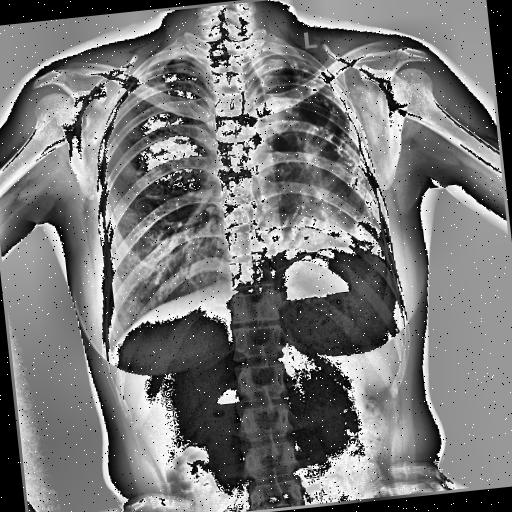11- Pleural thickening: (291, 54, 380, 260), (286, 42, 378, 228)
13- Pulmonary fibrosis: (146, 58, 198, 100), (144, 61, 196, 93), (148, 61, 188, 97)
2- Calcification: (291, 54, 380, 260), (284, 53, 384, 226), (286, 42, 378, 228)
7- Lung Opacity: (242, 34, 392, 281), (262, 39, 392, 276), (256, 64, 384, 250)
8- Nodule-Mass: (346, 222, 380, 254)
9- Other lesion: (148, 61, 188, 97)
